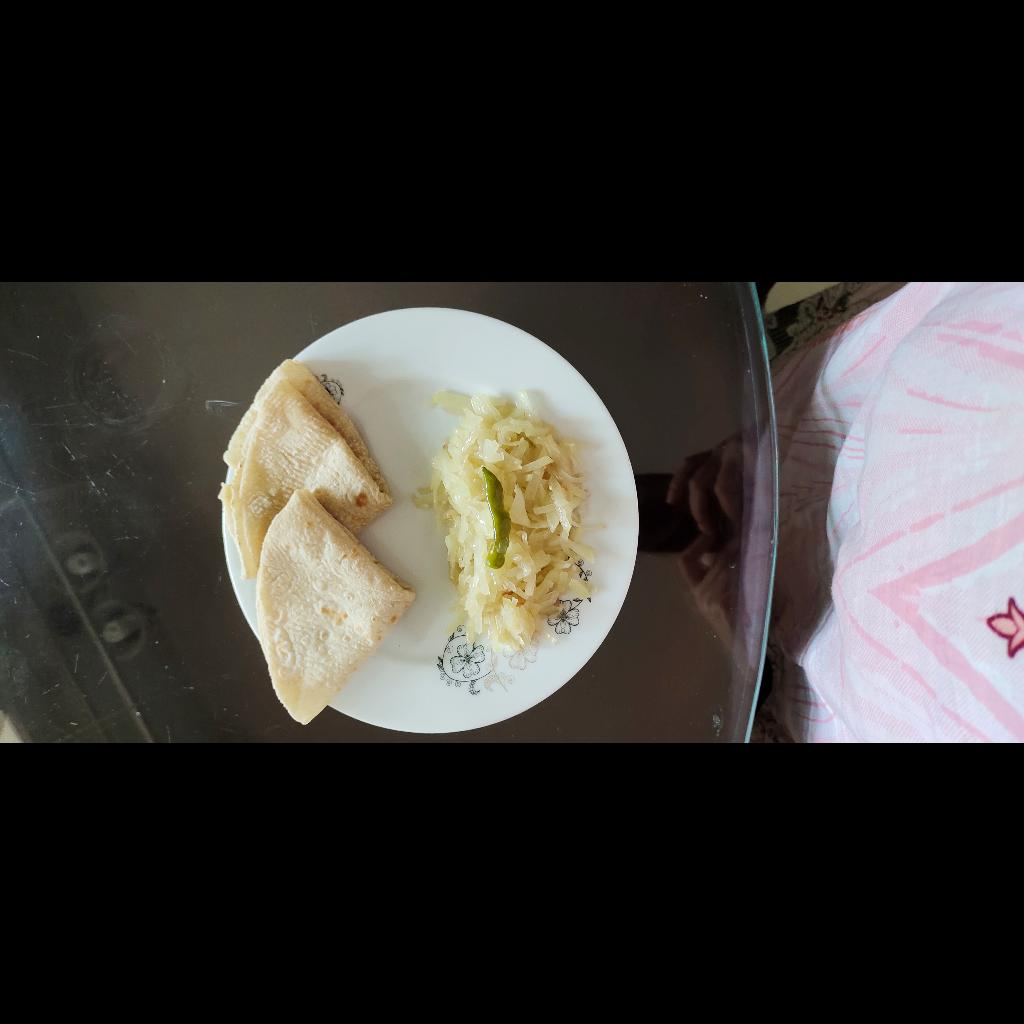ruti: (18, 497, 387, 701)
vaji: (91, 697, 351, 875)
